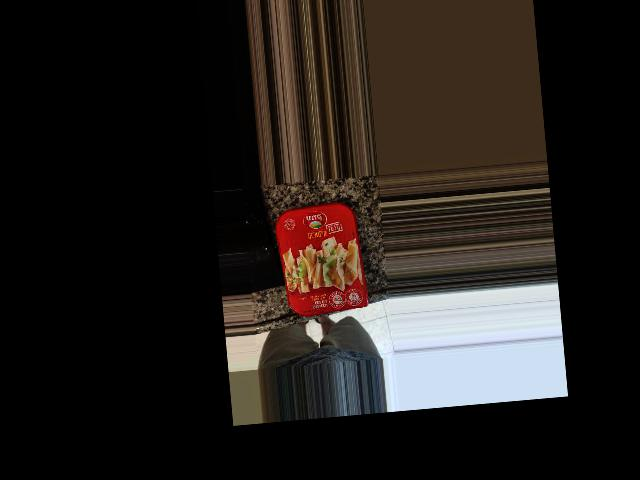cheese: (274, 204, 371, 320)
